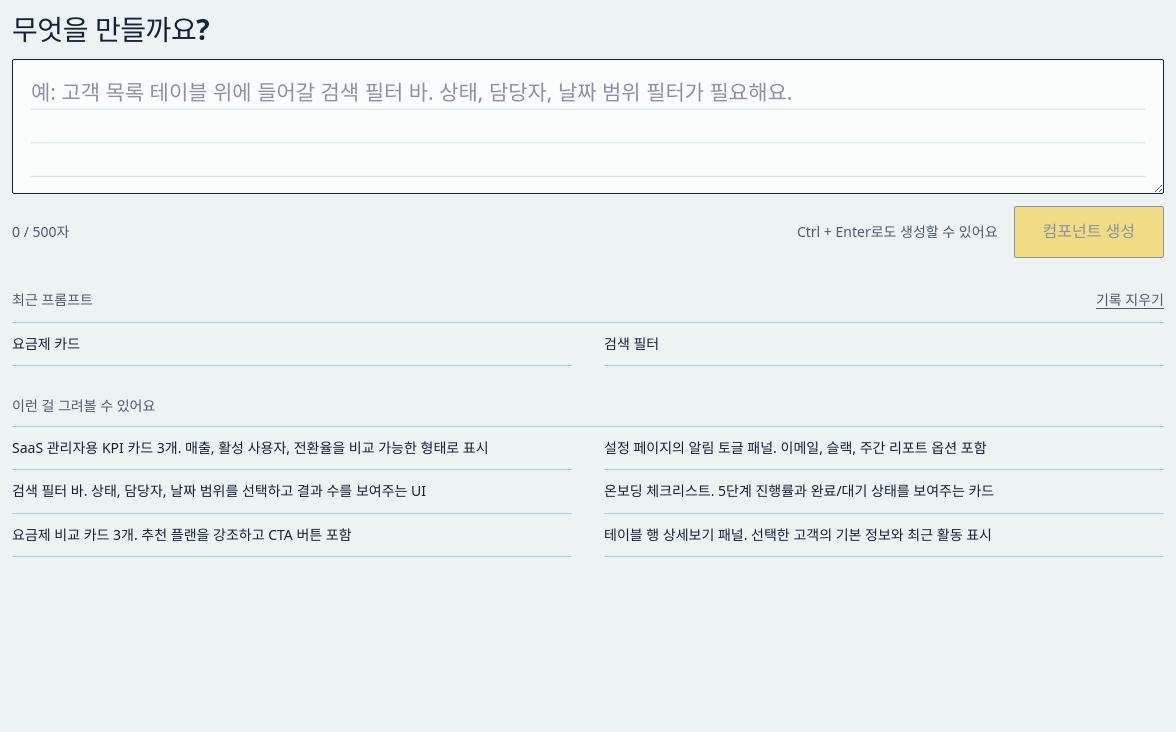
Test: PromptInput 프롬프트 히스토리 › 최근 프롬프트를 누르면 입력란에 채운다
Step 1. Click the button "검색 필터" → click(632, 343), box [604,323,1164,365]
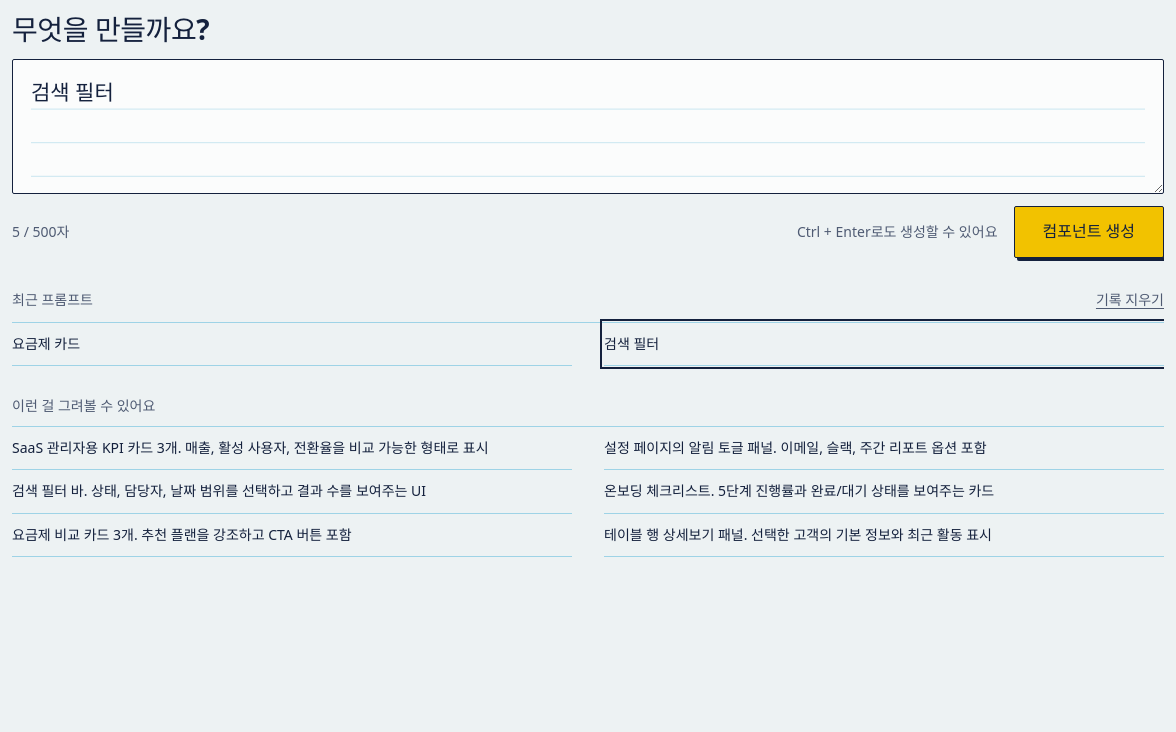
Now the text box holds "검색 필터", box [12,59,1164,194]
